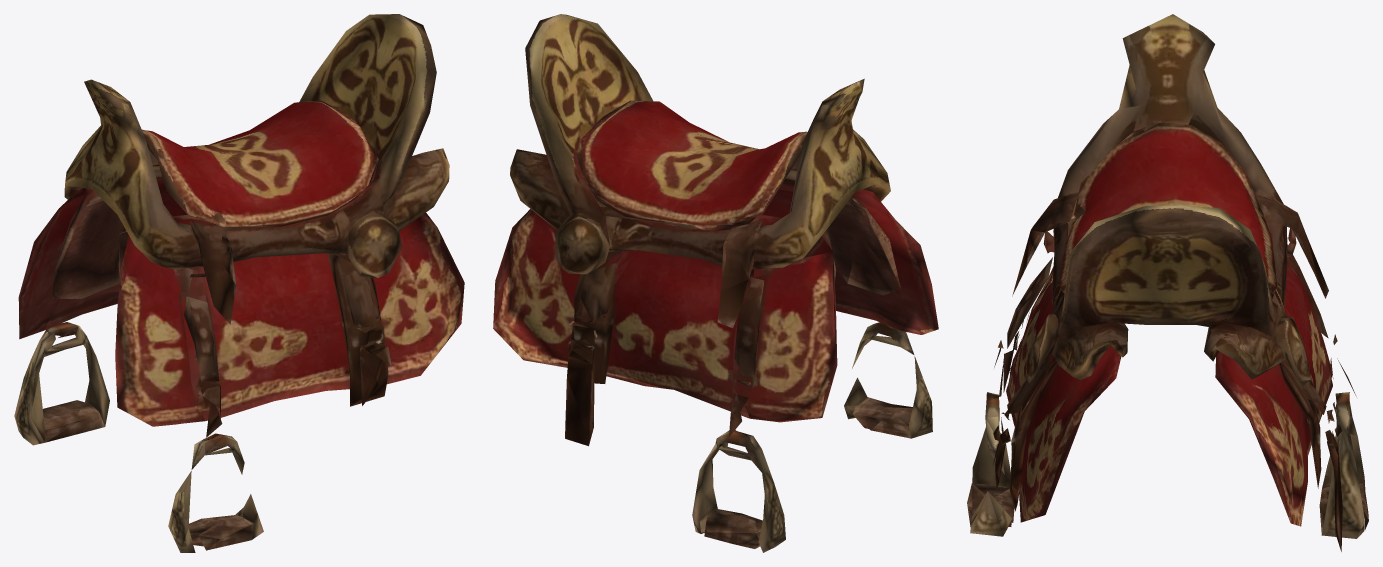
File: saddle.glb
3 views of the same model, side by side, from view 1: azimuth 30°, elevation 25°; view 2: azimuth 150°, elevation 25°; view 3: azimuth 270°, elevation 25° (orthographic). The views are drawn at different scales.
Parts seen in each view (by area): view 1: saddle.raw; view 2: saddle.raw; view 3: saddle.raw.
Part boxes in pixels (<box>): saddle.raw: <box>14,14,464,552</box>; saddle.raw: <box>493,14,938,552</box>; saddle.raw: <box>967,14,1368,551</box>.
Bounding box in the file's own units: 0.5349 × 0.6 × 0.4553.
Materials: 1 (1 with a texture image).
